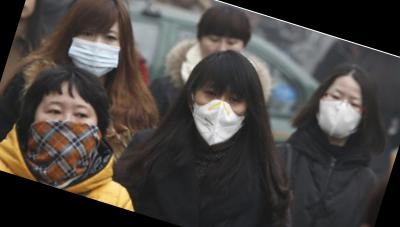with_mask: (16, 89, 106, 186), (182, 76, 254, 152), (61, 16, 132, 86), (311, 84, 370, 145)
without_mask: (199, 30, 244, 69)
